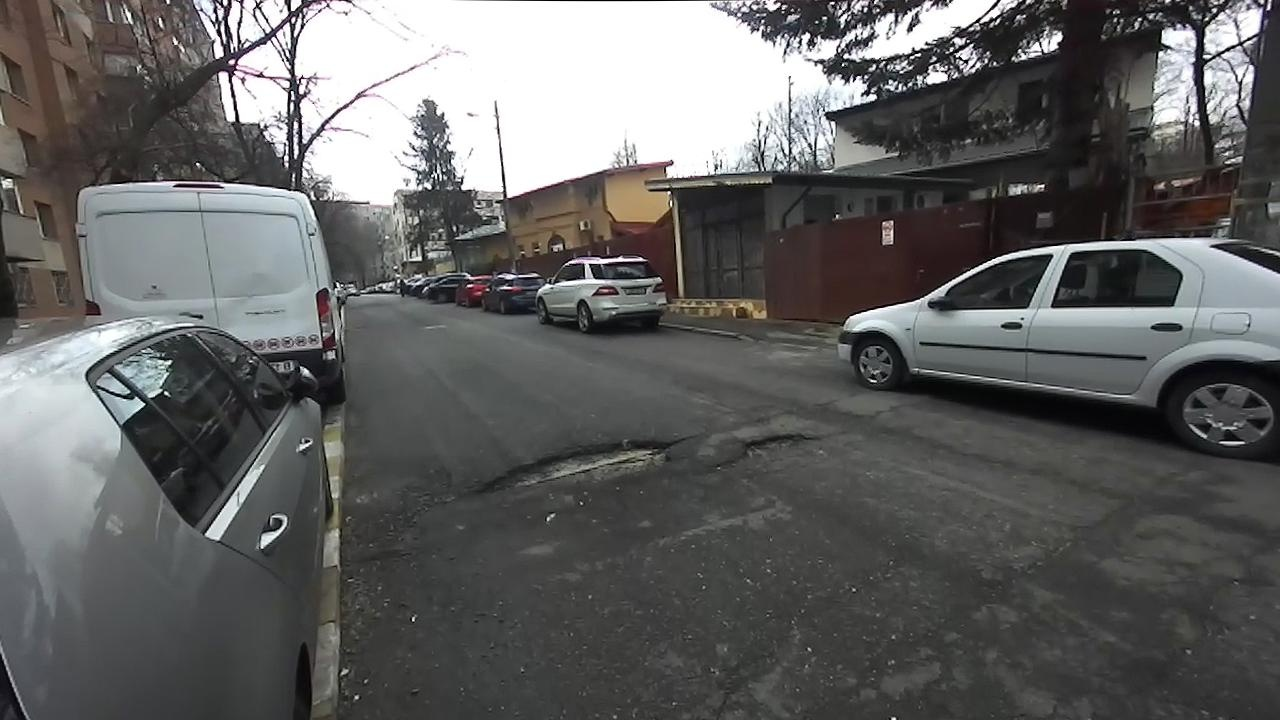pothole: (470, 432, 695, 502), (711, 428, 824, 469)
